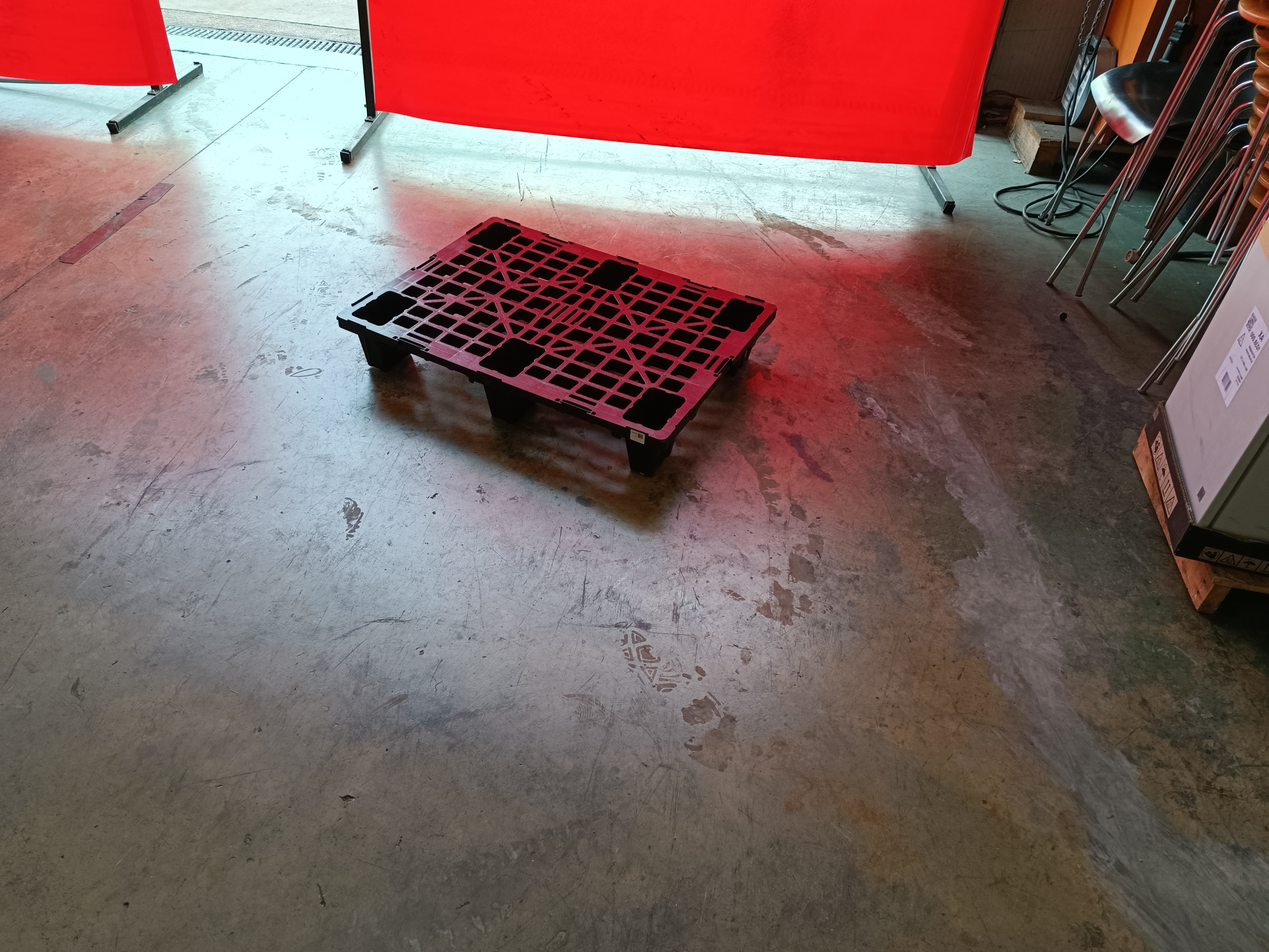block: (482, 387, 538, 450), (623, 434, 678, 489), (355, 329, 409, 376)
front: (339, 321, 662, 511)
hole pallet: (396, 348, 492, 433), (536, 409, 631, 485)
